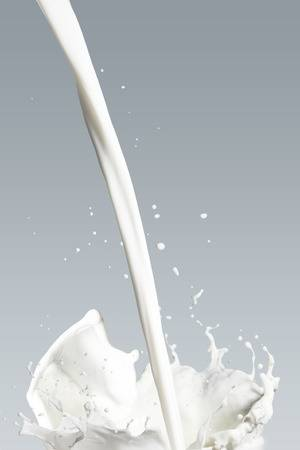glass of milk: (32, 1, 274, 447)
